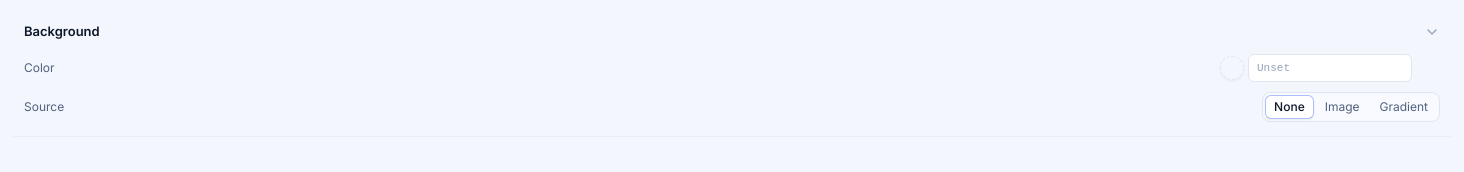
InspectorBackgroundSection › rejects a malformed Background Color with a clear validation message and does not commit
In the field named "Background color": (1330,68) [1248,54,1412,82], type "not-a-color"
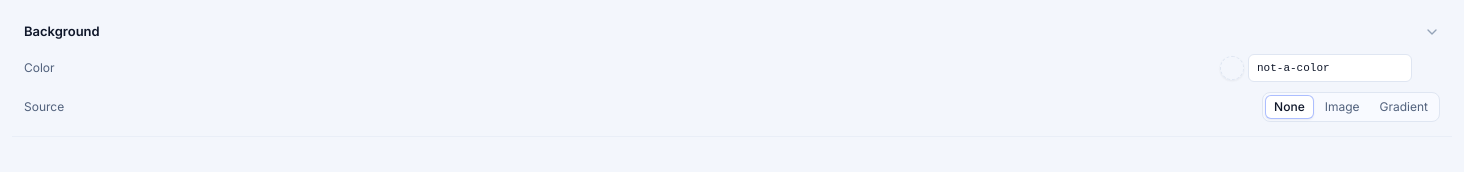
Leave the field named "Background color", box [1248,54,1412,82]
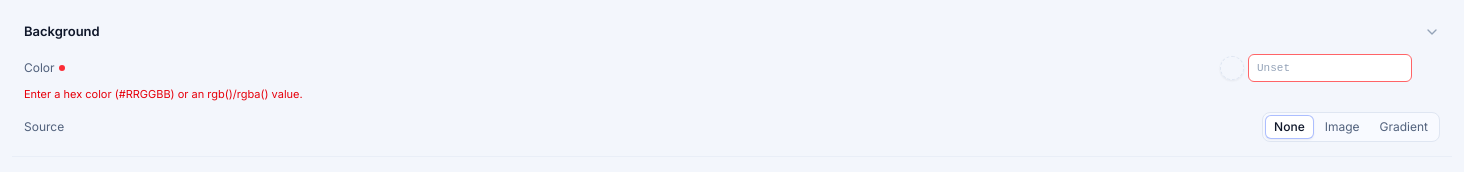
Expected: the message reads "Enter a hex color (#RRGGBB) or an rgb()/rgba() value.", [24,86,303,100]
